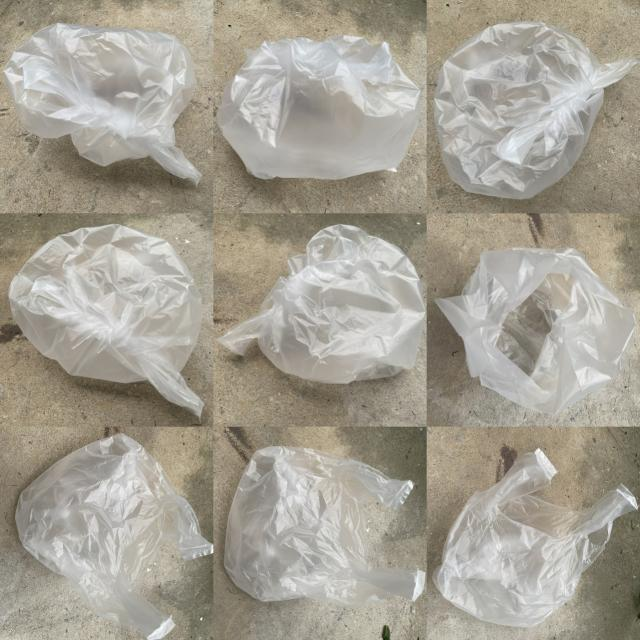Single-layer Plastic: (16, 434, 212, 640), (9, 224, 204, 418), (432, 449, 638, 627), (434, 21, 636, 199), (435, 248, 635, 414), (218, 225, 425, 384), (224, 446, 425, 608), (4, 24, 201, 185), (218, 35, 420, 179)
